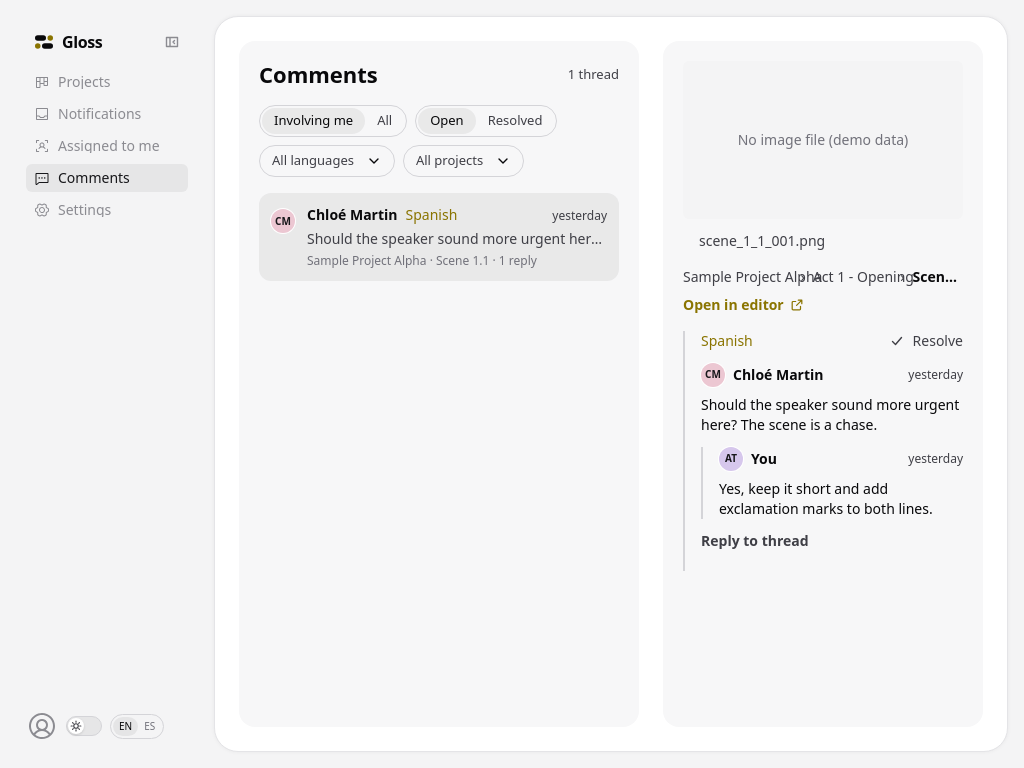
Scenario: Comments page › lets managers see every thread, open or resolved
The image size is (1024, 768).
Click the radio button labelled "All" at (385, 120), box [365,108,404,134]
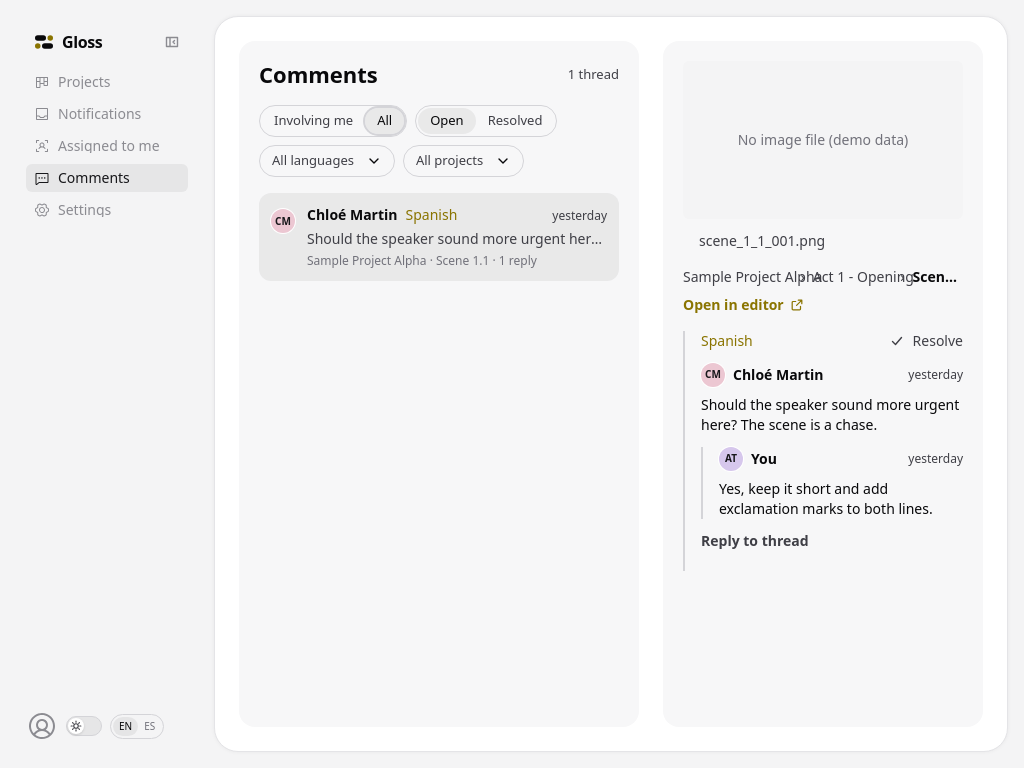
Click the radio button labelled "Resolved" at (515, 120), box [476,108,554,134]
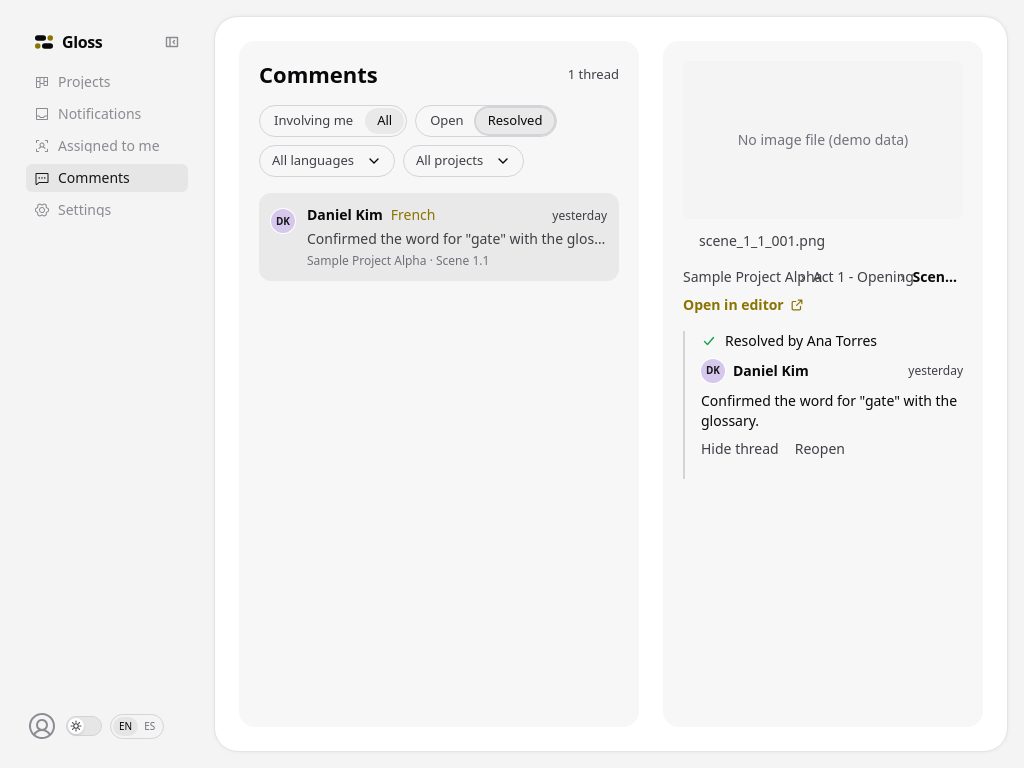
Check: the text "Confirmed the word for \"gate\" with the glossary." below "1 thread" is shown, box [307,228,625,248]
Check: the text "Resolved by Ana Torres" is shown, box [701,330,877,350]
